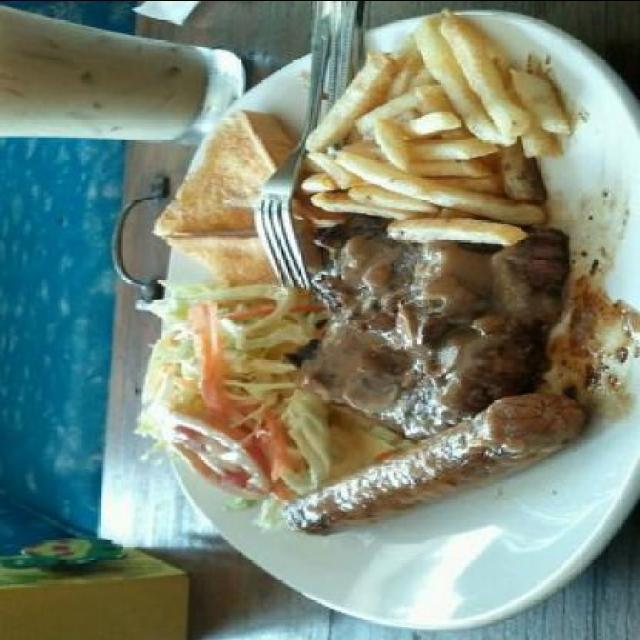French fries: (300, 19, 582, 230)
Steak: (296, 237, 572, 426), (278, 398, 572, 540)
